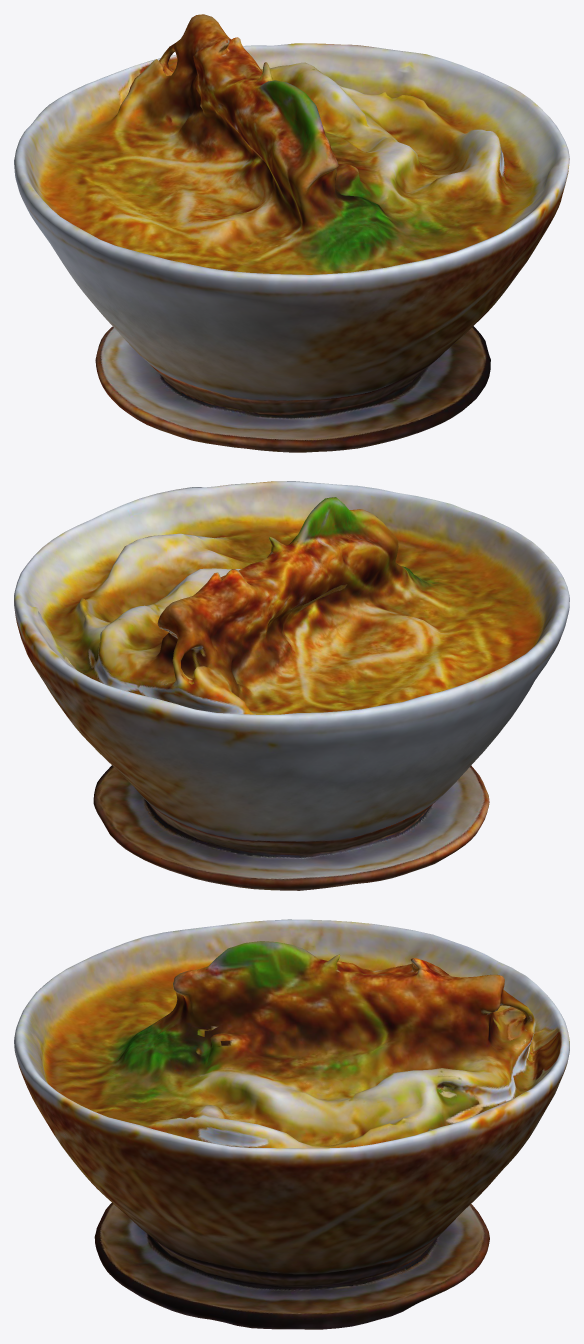
The model's file is laksa.glb.
3 renders of one model, top to bottom at view 1: azimuth 30°, elevation 25°; view 2: azimuth 150°, elevation 25°; view 3: azimuth 270°, elevation 25°, orthographic.
Parts seen in each view (by area): view 1: mesh; view 2: mesh; view 3: mesh.
Boxes of the visible parts, left/top/right/bottom form: mesh: left=14, top=14, right=569, bottom=452; mesh: left=14, top=481, right=569, bottom=890; mesh: left=14, top=919, right=569, bottom=1329.
Bounding box in the file's own units: 0.9942 × 0.5998 × 0.9989.
Materials: 1 (1 with a texture image).
